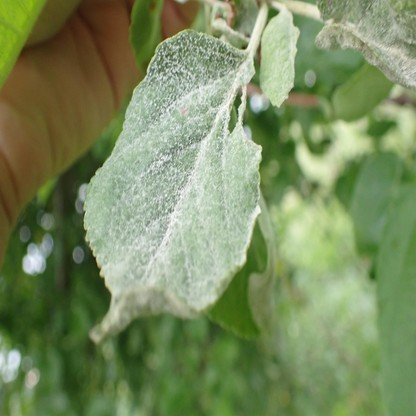powder: (83, 29, 263, 345), (315, 3, 416, 91), (259, 6, 300, 108)
